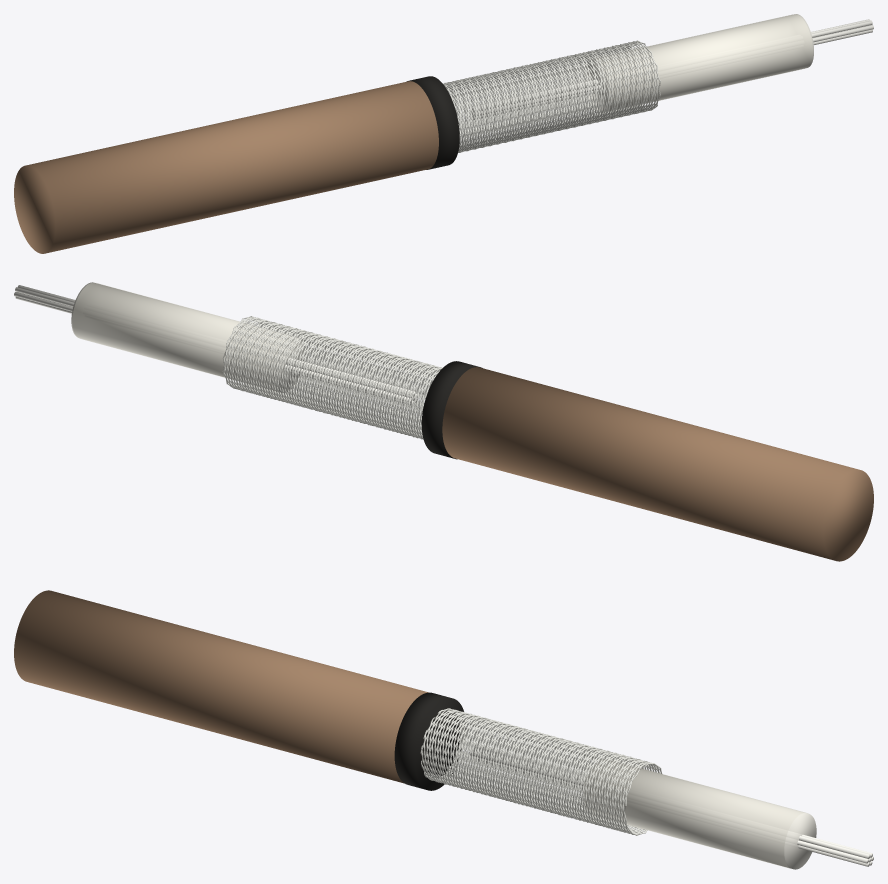
3 renders of one model, top to bottom at view 1: azimuth 30°, elevation 25°; view 2: azimuth 150°, elevation 25°; view 3: azimuth 330°, elevation 25°, orthographic. The views are drawn at different scales.
Parts seen in each view (by area): view 1: matte black pvc jacket body, gas injected foam dielectric, smooth dielectric skin, jacket cut lip, braid left hand carrier 08, braid left hand carrier 06, braid left hand carrier 09, braid left hand carrier 05, braid right hand carrier 05, braid right hand carrier 07, braid right hand carrier 06, braid left hand carrier 11 (+22 smaller); view 2: matte black pvc jacket body, gas injected foam dielectric, smooth dielectric skin, jacket cut lip, braid left hand carrier 02, braid left hand carrier 03, braid left hand carrier 14, braid left hand carrier 05, braid right hand carrier 03, braid left hand carrier 06, braid right hand carrier 14, braid left hand carrier 08 (+22 smaller); view 3: matte black pvc jacket body, gas injected foam dielectric, smooth dielectric skin, jacket cut lip, braid left hand carrier 05, braid left hand carrier 06, braid left hand carrier 08, braid left hand carrier 03, braid left hand carrier 09, braid left hand carrier 02, braid right hand carrier 09, braid left hand carrier 11 (+22 smaller).
Part boxes in pixels (bbox=[...]): matte black pvc jacket body: bbox=[14, 81, 438, 253]; gas injected foam dielectric: bbox=[585, 14, 813, 112]; smooth dielectric skin: bbox=[584, 14, 812, 112]; jacket cut lip: bbox=[407, 76, 459, 169]; braid left hand carrier 08: bbox=[451, 47, 655, 151]; braid left hand carrier 06: bbox=[447, 40, 650, 147]; braid left hand carrier 09: bbox=[454, 47, 658, 152]; braid left hand carrier 05: bbox=[447, 41, 647, 147]; braid right hand carrier 05: bbox=[443, 43, 660, 148]; braid right hand carrier 07: bbox=[446, 44, 658, 150]; braid right hand carrier 06: bbox=[444, 43, 660, 150]; braid left hand carrier 11: bbox=[459, 45, 660, 152]; matte black pvc jacket body: bbox=[442, 367, 873, 561]; gas injected foam dielectric: bbox=[71, 282, 304, 392]; smooth dielectric skin: bbox=[72, 282, 305, 392]; jacket cut lip: bbox=[421, 361, 482, 459]; braid left hand carrier 02: bbox=[225, 320, 436, 438]; braid left hand carrier 03: bbox=[223, 319, 439, 437]; braid left hand carrier 14: bbox=[230, 322, 435, 439]; braid left hand carrier 05: bbox=[227, 318, 442, 435]; braid right hand carrier 03: bbox=[233, 316, 436, 432]; braid left hand carrier 06: bbox=[234, 317, 442, 434]; braid right hand carrier 14: bbox=[225, 324, 434, 437]; braid left hand carrier 08: bbox=[246, 316, 438, 433]; matte black pvc jacket body: bbox=[14, 590, 428, 783]; gas injected foam dielectric: bbox=[584, 759, 816, 869]; smooth dielectric skin: bbox=[582, 759, 805, 868]; jacket cut lip: bbox=[394, 692, 465, 790]; braid left hand carrier 05: bbox=[423, 712, 661, 828]; braid left hand carrier 06: bbox=[426, 713, 654, 830]; braid left hand carrier 08: bbox=[431, 714, 636, 830]; braid left hand carrier 03: bbox=[420, 710, 660, 828]; braid left hand carrier 09: bbox=[434, 715, 635, 832]; braid left hand carrier 02: bbox=[423, 710, 657, 826]; braid right hand carrier 09: bbox=[429, 710, 646, 834]; braid left hand carrier 11: bbox=[439, 716, 644, 833].
Size of the model in its own units: 6.51 by 0.6287 by 0.7644.
